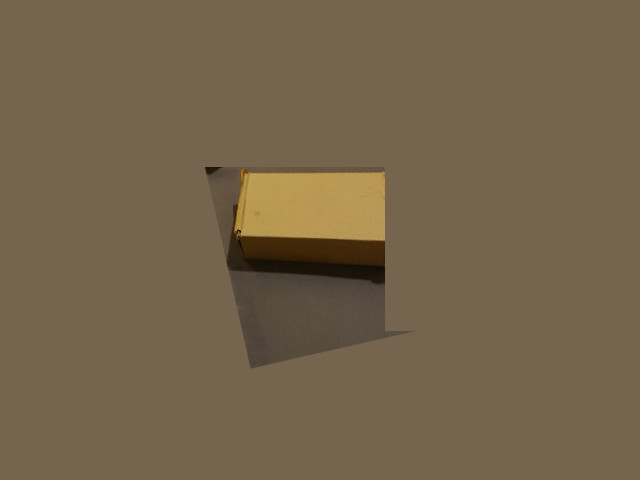cardboard: (233, 174, 386, 260)
